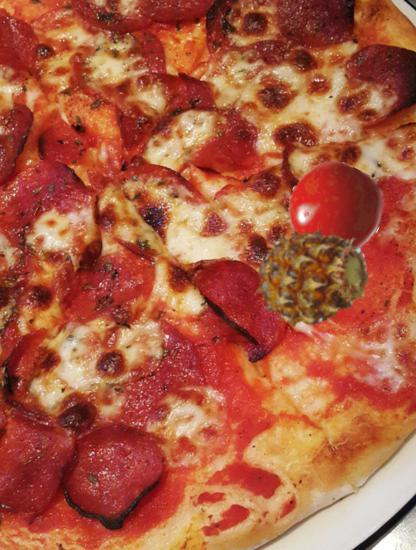Pineapple: (251, 217, 369, 335)
Tomato: (287, 163, 383, 259)
